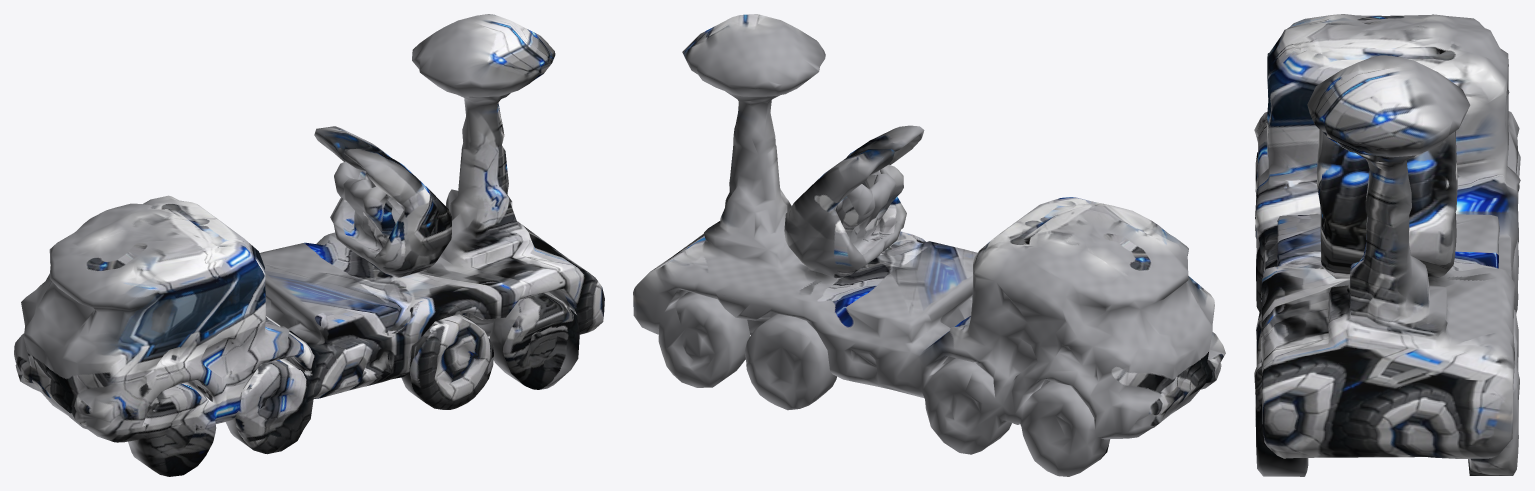
Rendered from mast_lod1.glb.
3 renders of one model, left to right at view 1: azimuth 30°, elevation 25°; view 2: azimuth 150°, elevation 25°; view 3: azimuth 270°, elevation 25°, orthographic. The views are drawn at different scales.
Visible parts, largest first — view 1: geometry_0; view 2: geometry_0; view 3: geometry_0.
Boxes of the visible parts, x1,y1,x2,y2 form: geometry_0: [14, 14, 604, 476]; geometry_0: [633, 14, 1225, 476]; geometry_0: [1254, 14, 1520, 476].
Size of the model in its own units: 2 by 1.22 by 0.7422.
1 material, 1 textured.
